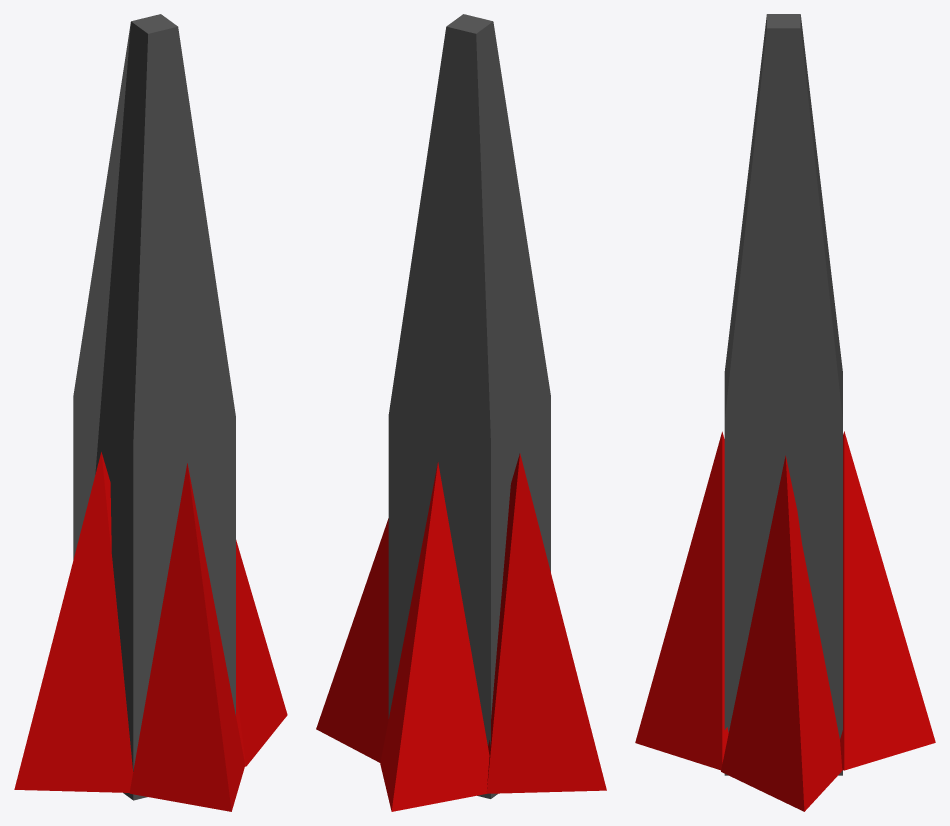
File: Missile.fbx
3 views of the same model, side by side, from view 1: azimuth 30°, elevation 25°; view 2: azimuth 150°, elevation 25°; view 3: azimuth 270°, elevation 25° (orthographic).
Visible parts, largest first — view 1: pCube1, pPyramid2, pPyramid1, pPyramid4; view 2: pCube1, pPyramid2, pPyramid3, pPyramid4; view 3: pCube1, pPyramid4, pPyramid3, pPyramid1.
Part boxes in pixels (x1=…): pCube1: x1=73, y1=14, x2=235, y2=800; pPyramid2: x1=14, y1=452, x2=133, y2=792; pPyramid1: x1=129, y1=463, x2=244, y2=811; pPyramid4: x1=236, y1=540, x2=287, y2=766; pCube1: x1=388, y1=14, x2=550, y2=798; pPyramid2: x1=486, y1=453, x2=606, y2=793; pPyramid3: x1=380, y1=462, x2=489, y2=811; pPyramid4: x1=316, y1=518, x2=388, y2=762; pCube1: x1=724, y1=14, x2=842, y2=775; pPyramid4: x1=721, y1=455, x2=842, y2=811; pPyramid3: x1=840, y1=431, x2=935, y2=770; pPyramid1: x1=635, y1=431, x2=728, y2=770.
Size of the model in its own units: 3.04 by 7.62 by 2.85.
